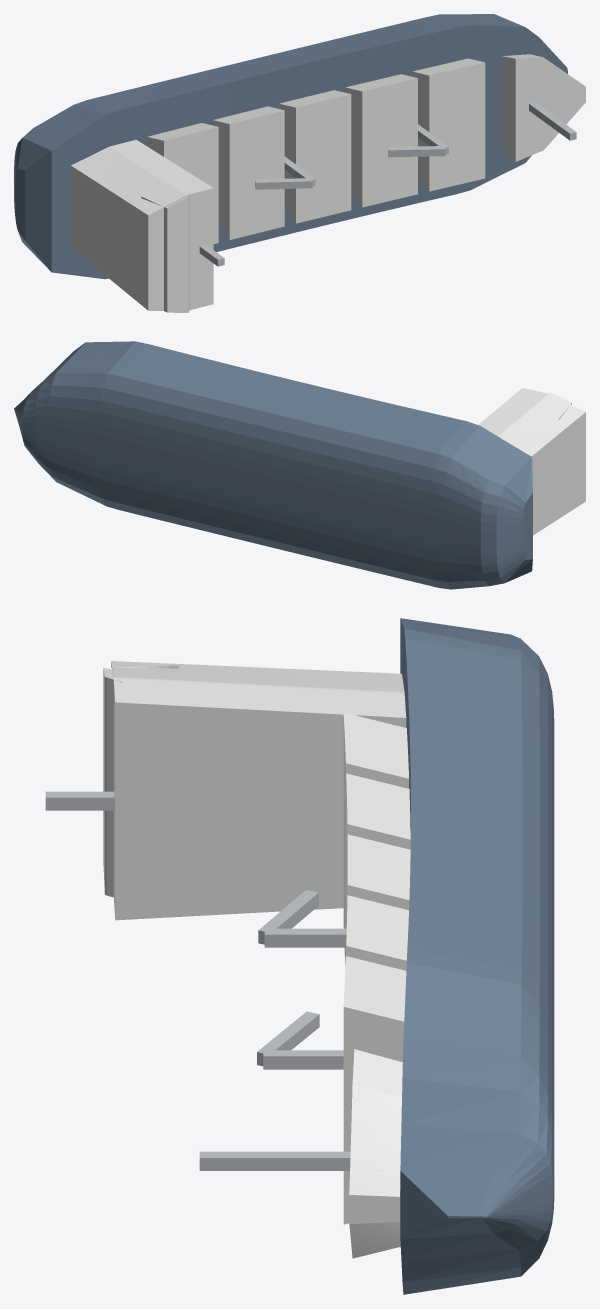
File: bulker-loft-highside.glb
3 renders of one model, top to bottom at view 1: azimuth 30°, elevation 25°; view 2: azimuth 150°, elevation 25°; view 3: azimuth 270°, elevation 25°, orthographic. The views are drawn at different scales.
Visible parts, largest first — view 1: bulker-loft-highside; view 2: bulker-loft-highside; view 3: bulker-loft-highside.
Boxes of the visible parts, x1,y1,x2,y2 form: bulker-loft-highside: (14, 14, 585, 312); bulker-loft-highside: (14, 341, 585, 589); bulker-loft-highside: (45, 618, 554, 1294).
Bounding box in the file's own units: 1.96 × 0.575 × 0.848.
